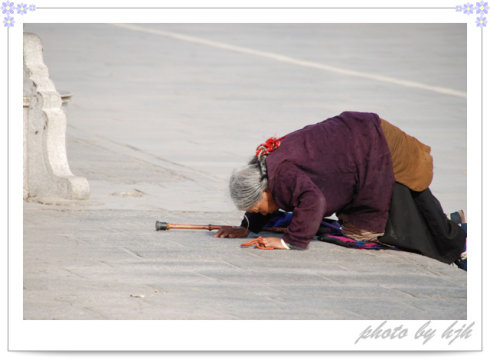fall: (212, 112, 470, 275)
